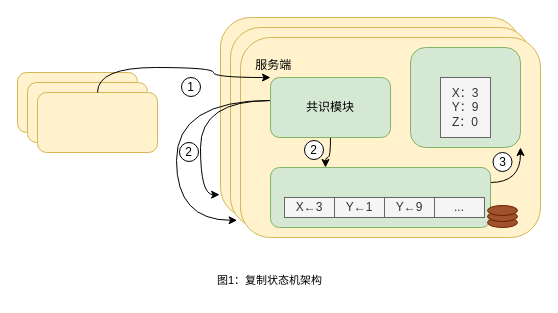
This 558x313 diagram has some shape labels left out. Each missing label, with the box of its shape:
客户端: (36, 92, 158, 152)
日志: (270, 166, 490, 228)
状态机: (410, 46, 520, 148)
